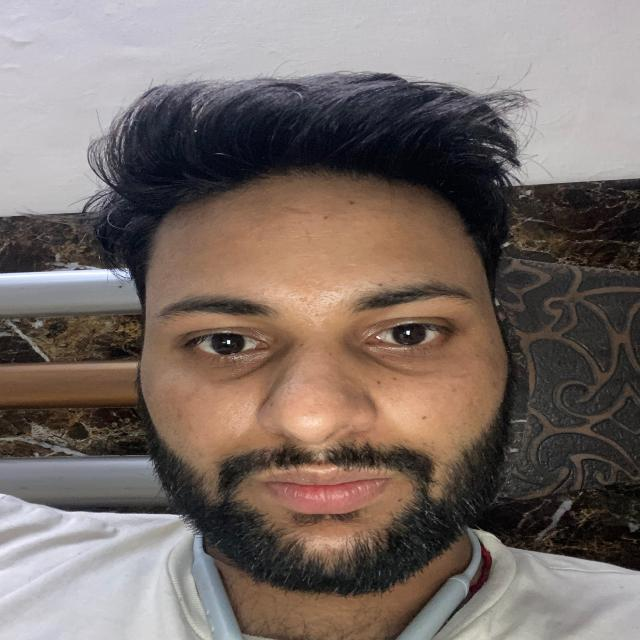Acne: (297, 294, 309, 304)
Englarged-Pores: (382, 385, 417, 423), (226, 400, 254, 432)
Eyebags: (174, 342, 285, 387), (357, 332, 460, 378)
Wrinkles: (264, 252, 339, 262), (254, 232, 344, 238)
